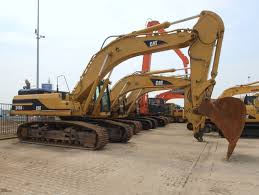excavator: (11, 10, 252, 151)
